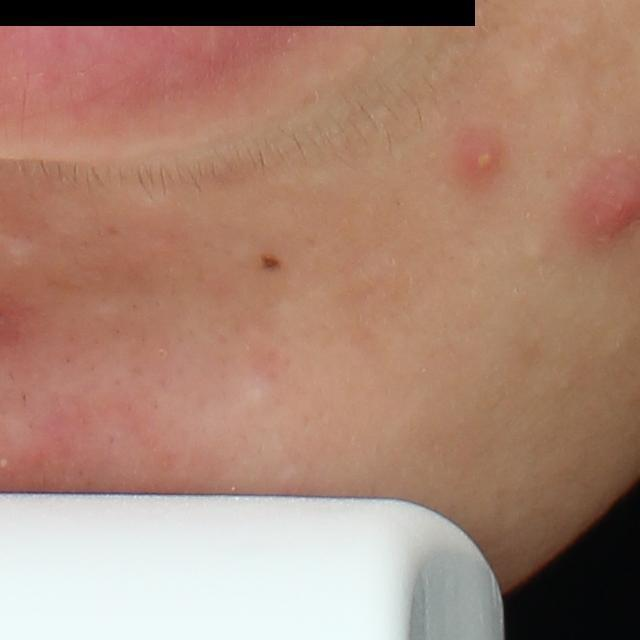nevus: (262, 251, 285, 272)
pustule: (466, 135, 509, 179)
